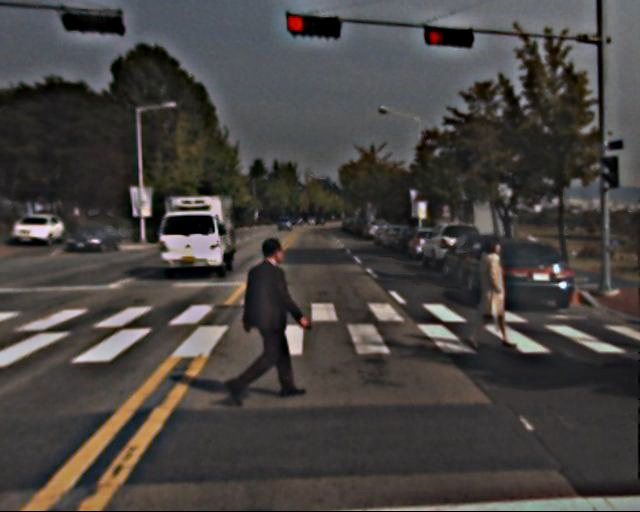person: (230, 238, 297, 402), (468, 237, 516, 353)
